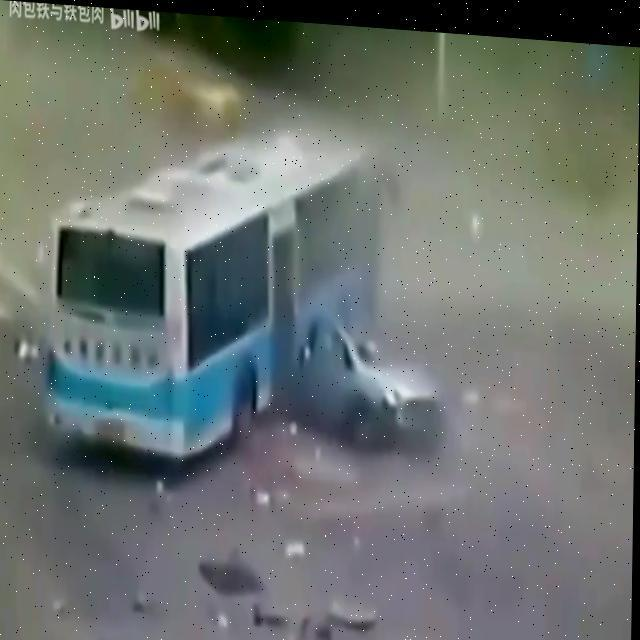multiple_accident: (43, 140, 441, 480)
